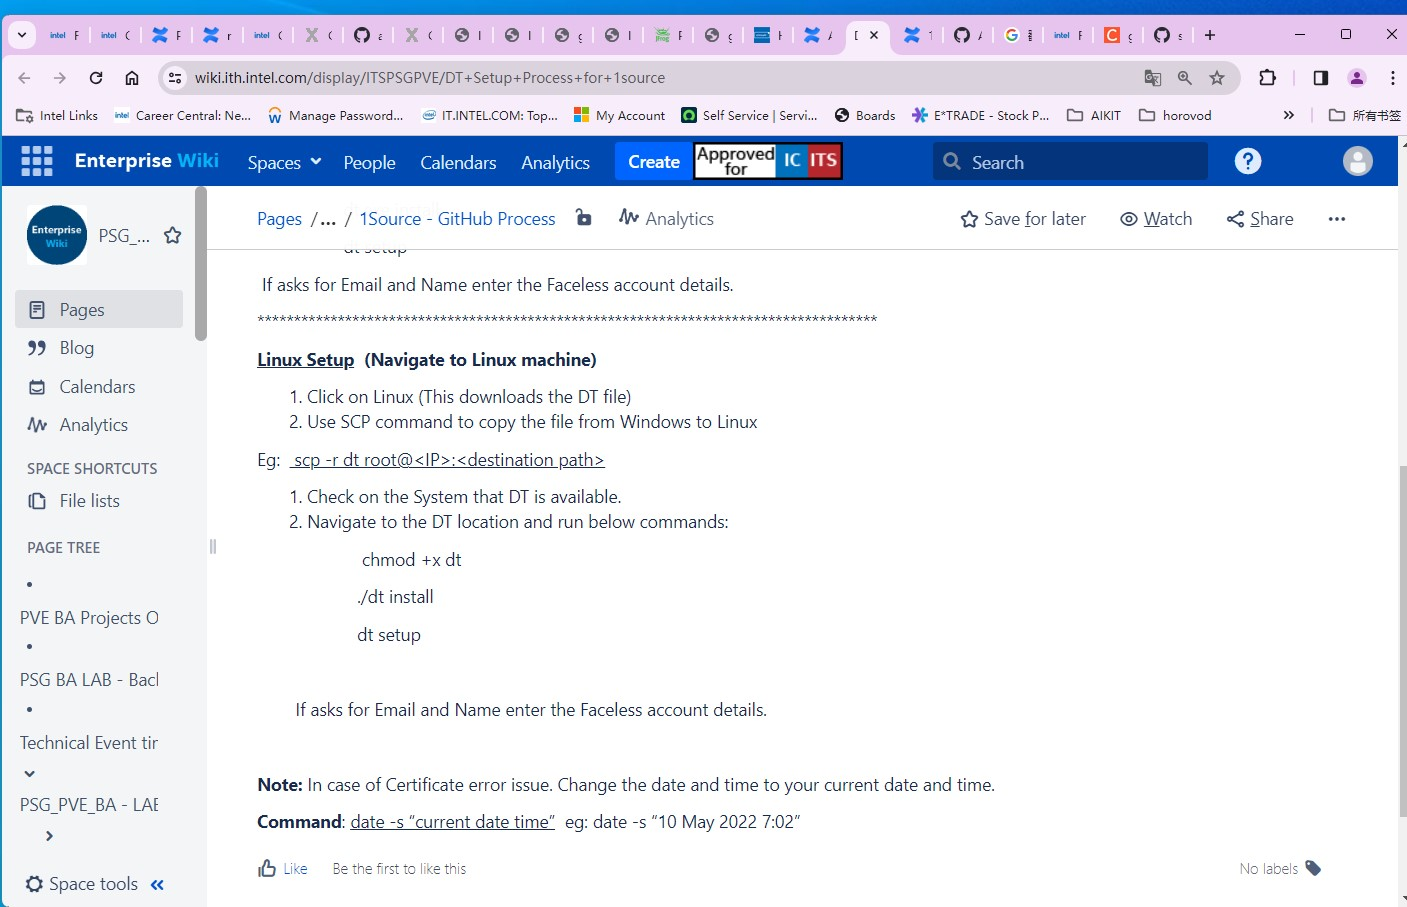button_create: (616, 140, 693, 179)
search_box: (933, 145, 1211, 178)
